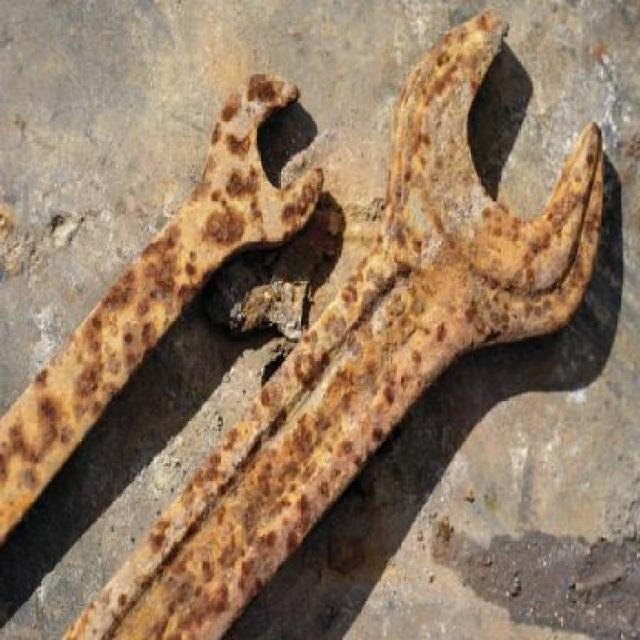corrosion: (3, 14, 608, 640)
